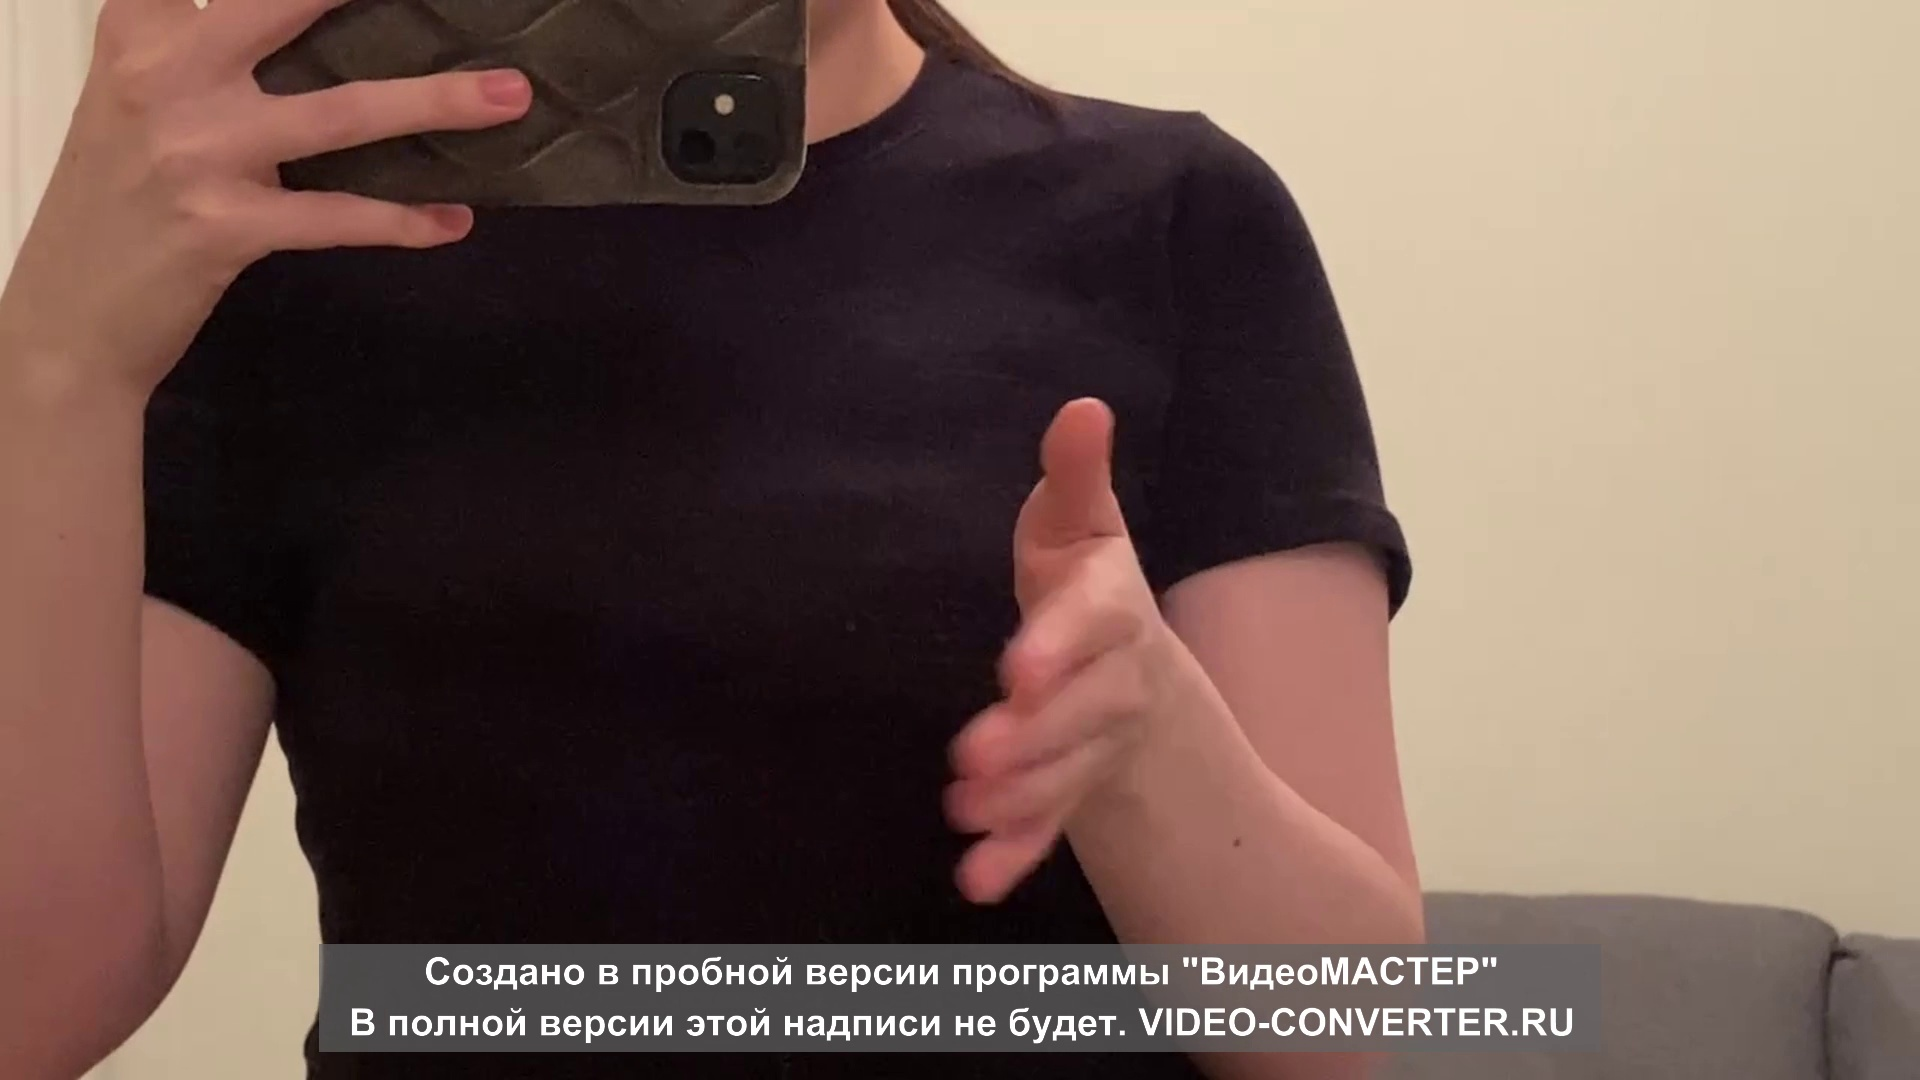Кисть: (943, 392, 1163, 901)
